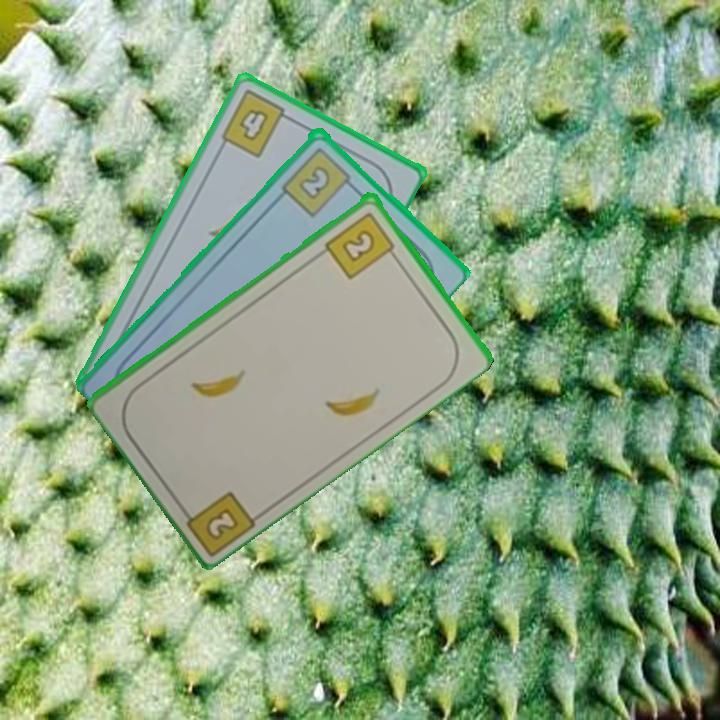2b: (278, 143, 359, 220), (321, 208, 401, 282), (175, 487, 260, 556)
4b: (217, 86, 297, 161)
